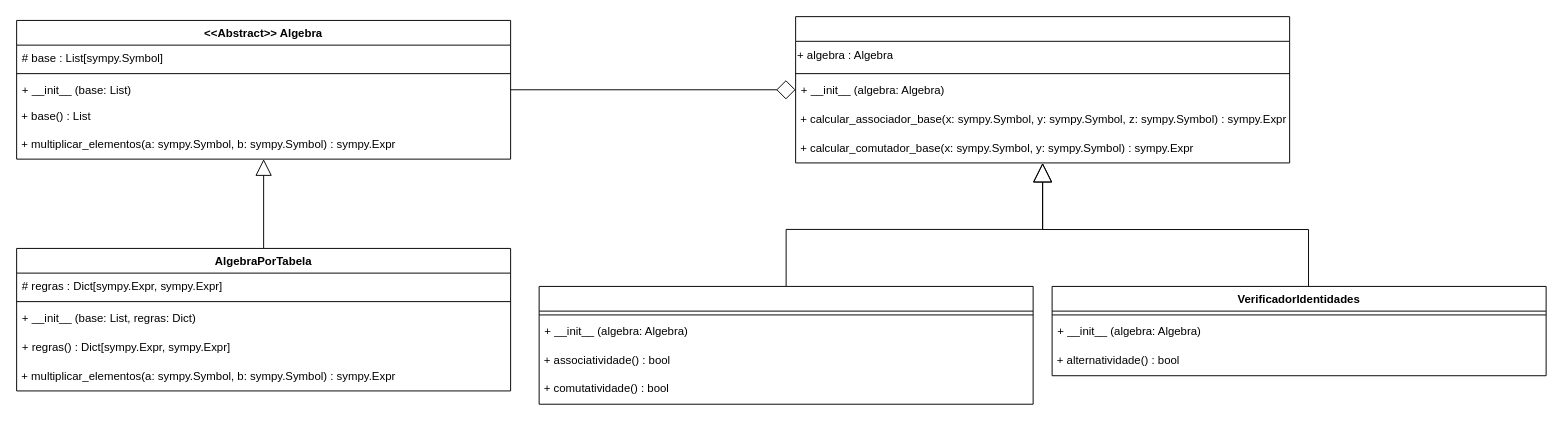
The diagram is 1563 pixels wide and 421 high, and some of its shapes have lost their labels. Each missing label, with the box of its shape:
<<Abstract>> AvaliadorAlgebrico: (795, 16, 1290, 163)
VerificadorAxiomas: (538, 285, 1033, 404)
